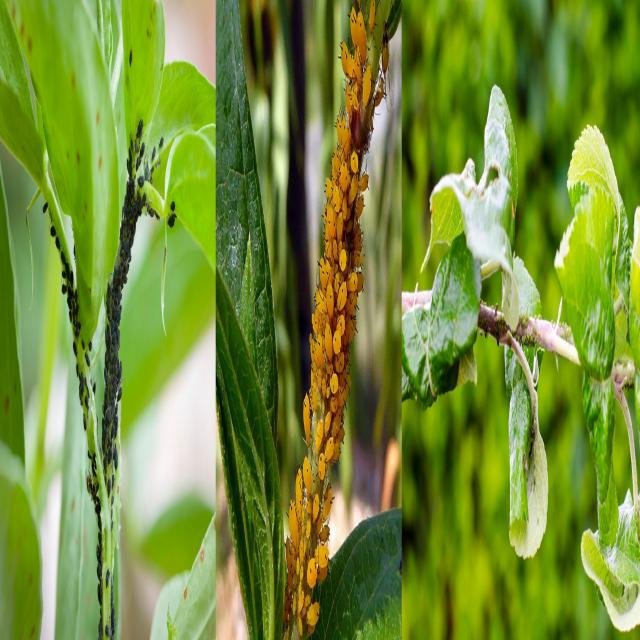Aphid-Grouped-: (310, 11, 384, 396), (286, 397, 344, 630), (100, 274, 122, 480), (86, 447, 105, 638), (118, 164, 146, 280), (58, 233, 82, 342)
Aphid-Grown-have wings-: (381, 14, 396, 119)
